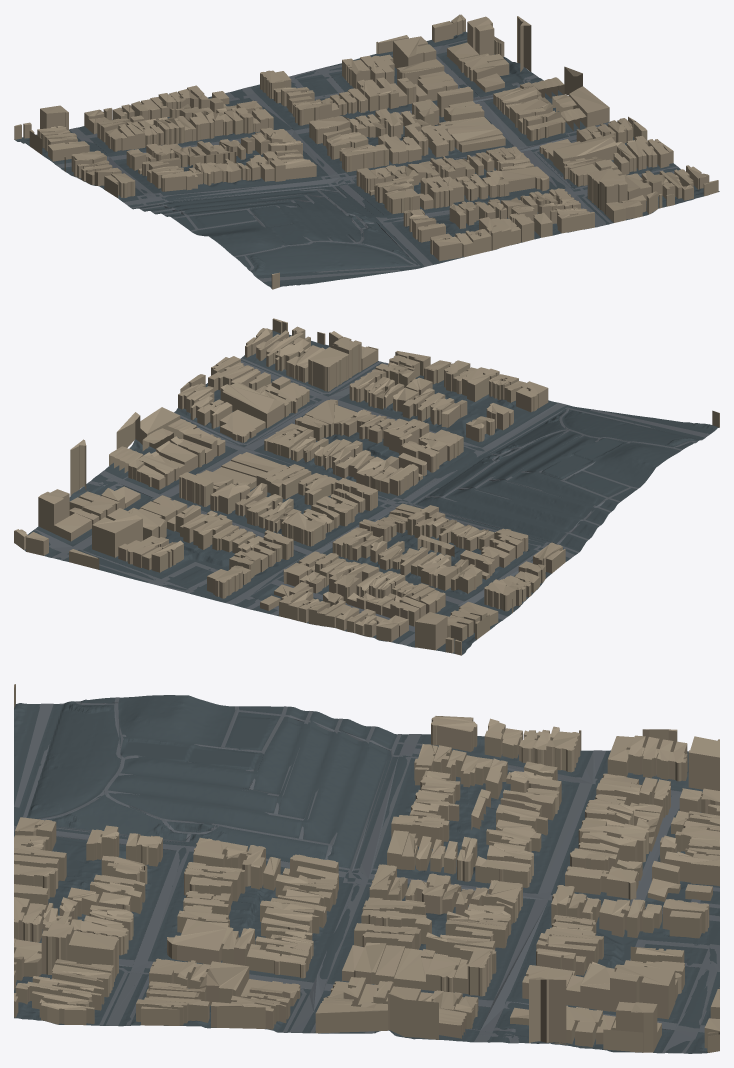
File: epsg26910-1431-10892.lod0.glb
The picture shows the model from 3 angles, top to bottom: view 1: azimuth 30°, elevation 25°; view 2: azimuth 150°, elevation 25°; view 3: azimuth 270°, elevation 25°; orthographic projection. The views are drawn at different scales.
Visible parts, largest first — view 1: epsg26910-1431-10892-lod0; view 2: epsg26910-1431-10892-lod0; view 3: epsg26910-1431-10892-lod0.
Boxes of the visible parts, box(x1,y1,x2,y2) form: epsg26910-1431-10892-lod0: box(14, 14, 719, 289); epsg26910-1431-10892-lod0: box(14, 318, 719, 655); epsg26910-1431-10892-lod0: box(14, 684, 719, 1053).
Size of the model in its own units: 384 by 50.39 by 384.
